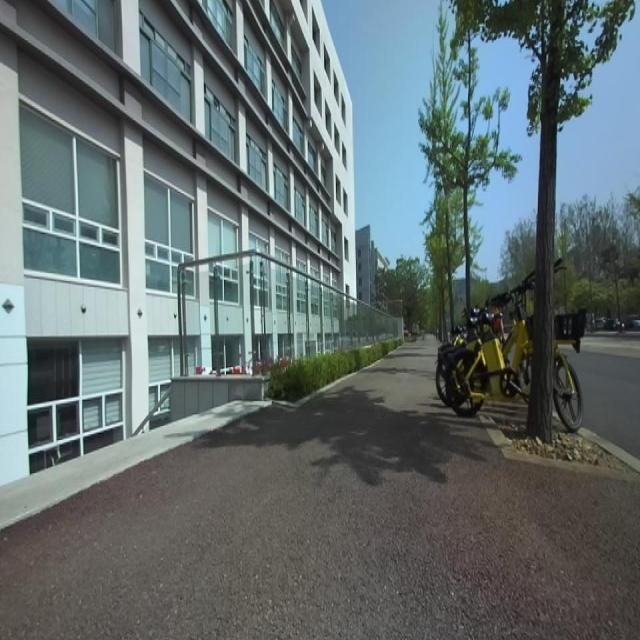sidewalk: (0, 337, 640, 639)
